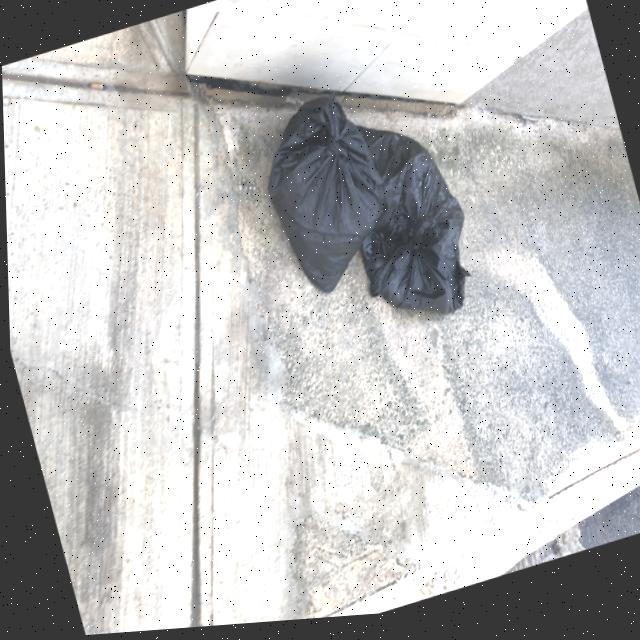Mixed Waste -Black Bag-: (326, 108, 483, 344), (251, 89, 403, 310)
